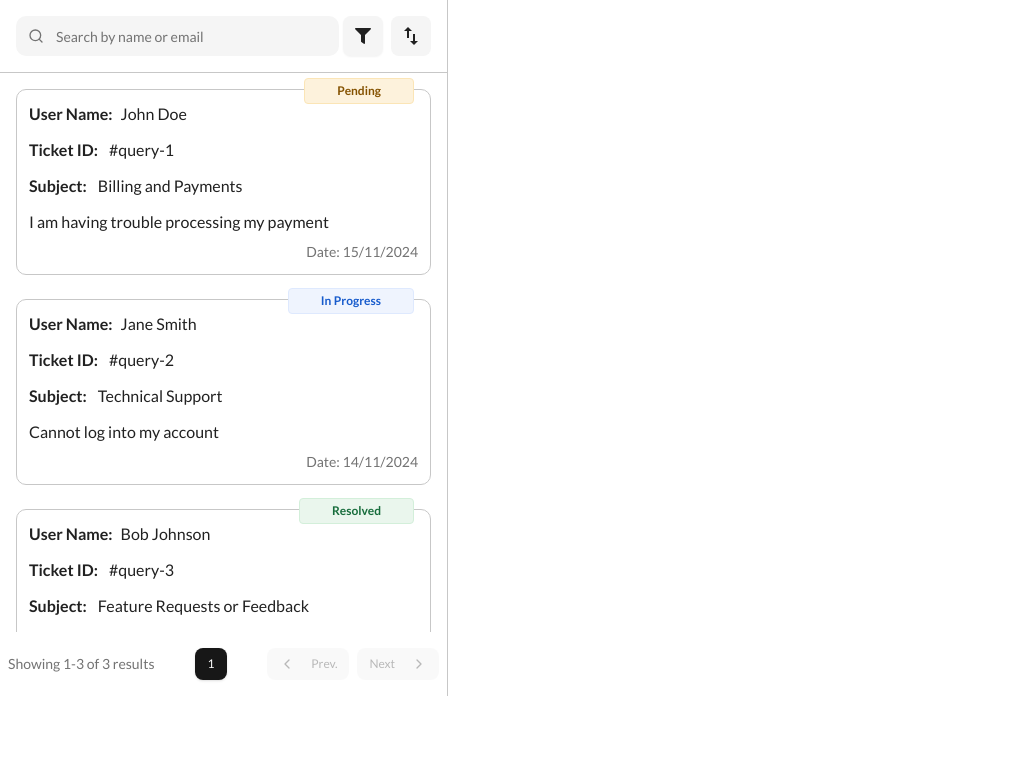
UserQueries - Integration Tests › Mobile View › should show detail view after selecting a query
The width and height of the screenshot is (1024, 768).
Click the element with test id "query-1" at point(224, 182), box [16,89,431,275]
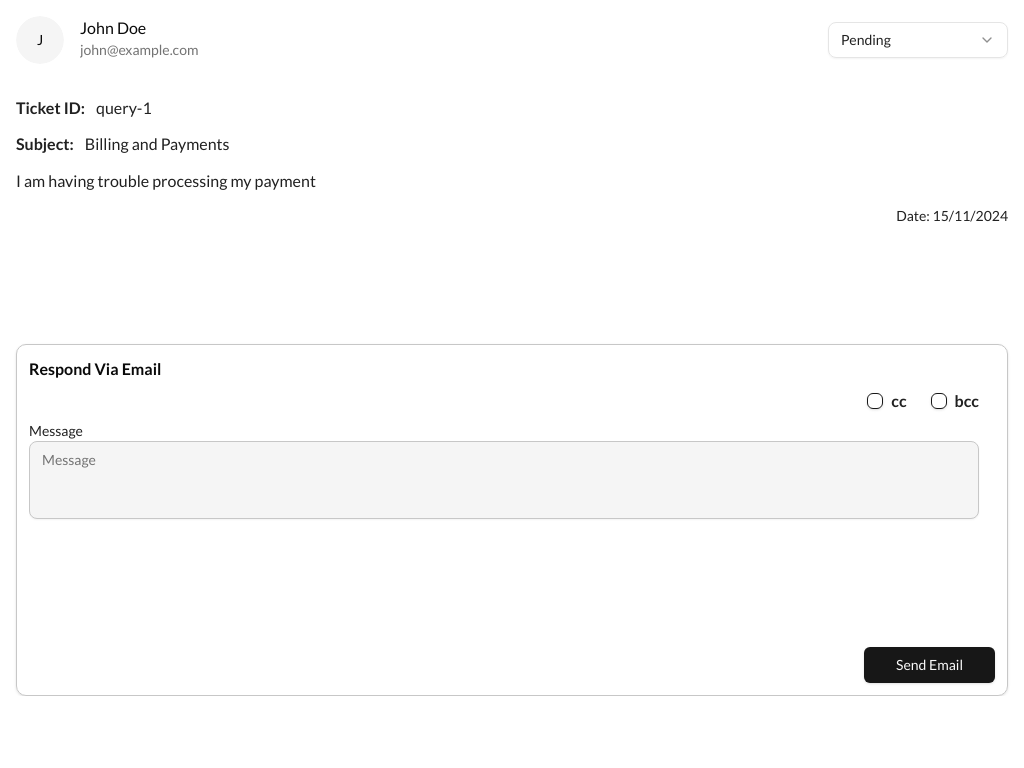
Expected: the element with test id "query-detail" is shown
Expected: the element with test id "user-queries-list" is gone
